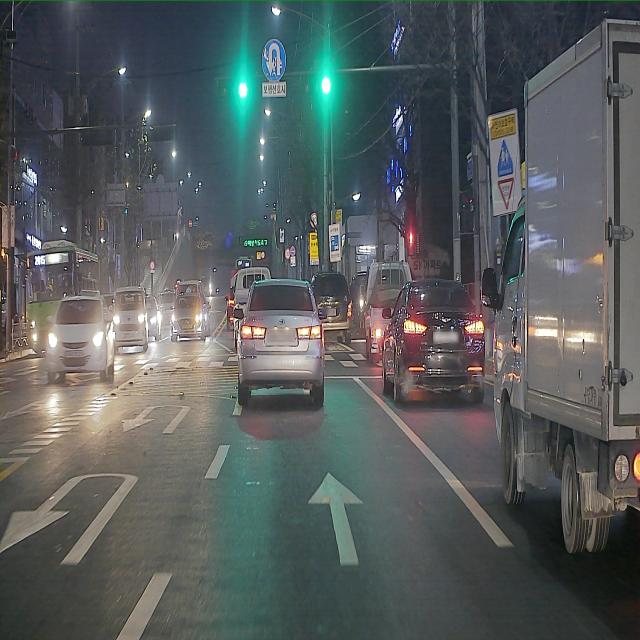Green Light: (321, 76, 332, 95), (238, 80, 248, 98)
